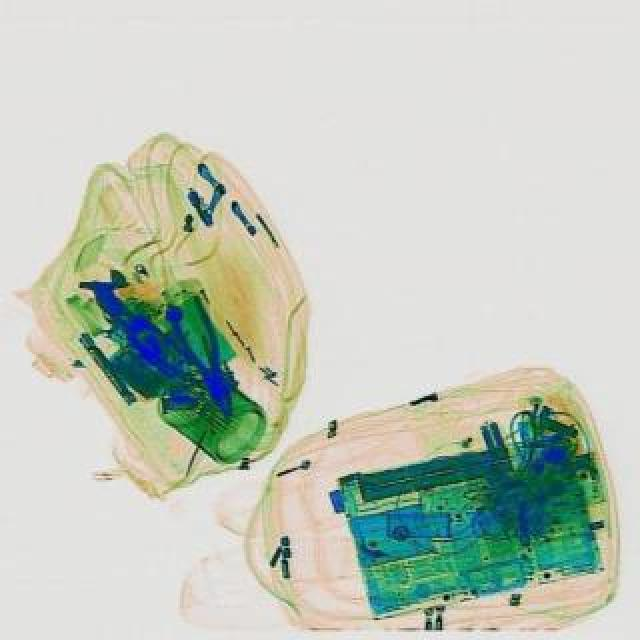wrench: (162, 292, 248, 424)
